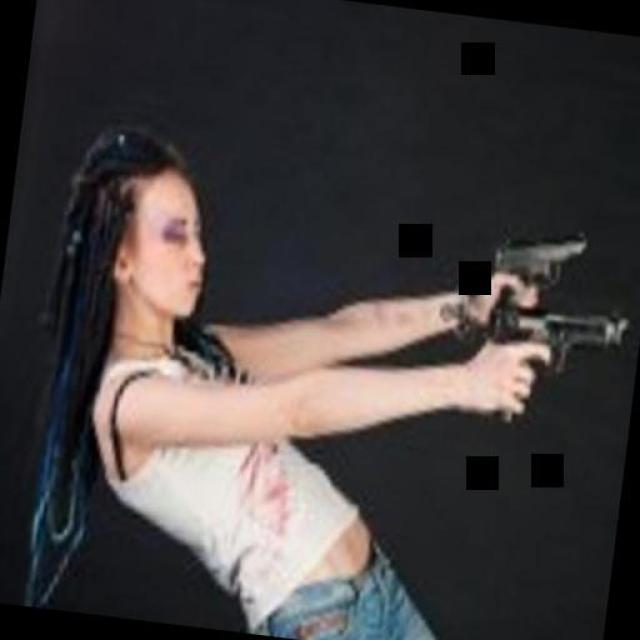gun: (479, 292, 626, 442), (468, 208, 602, 338)
